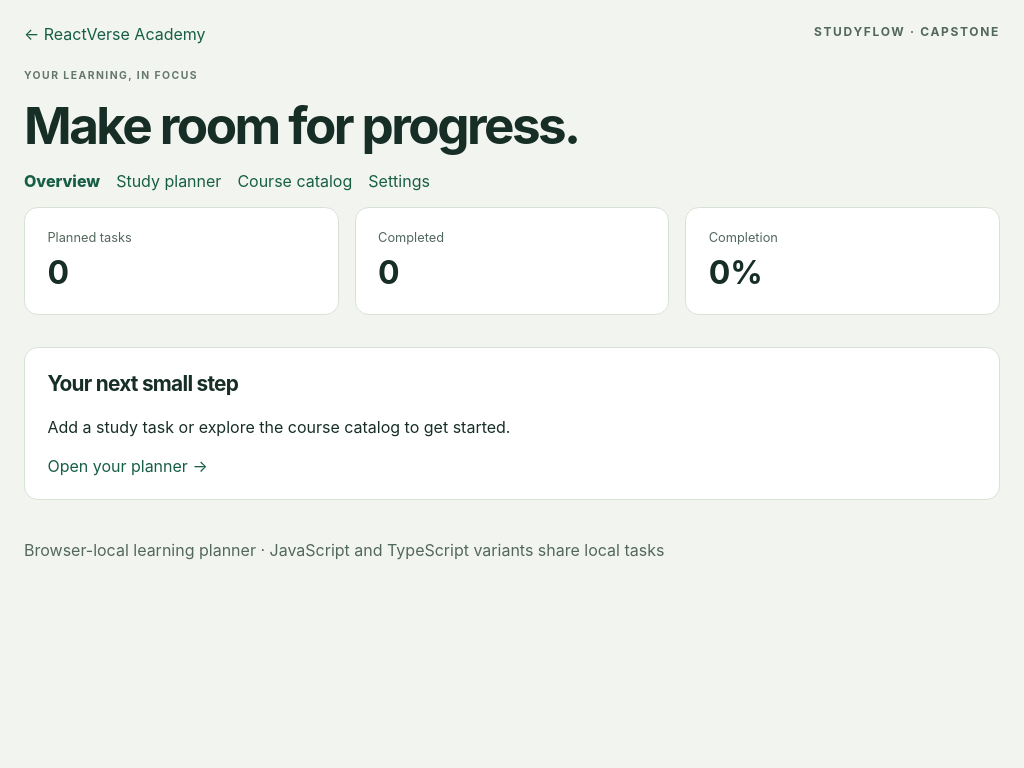
Scenario: capstone loads a catalog and adds a course to planner
Click the link "Course catalog" at (295, 180), box [237, 170, 352, 190]
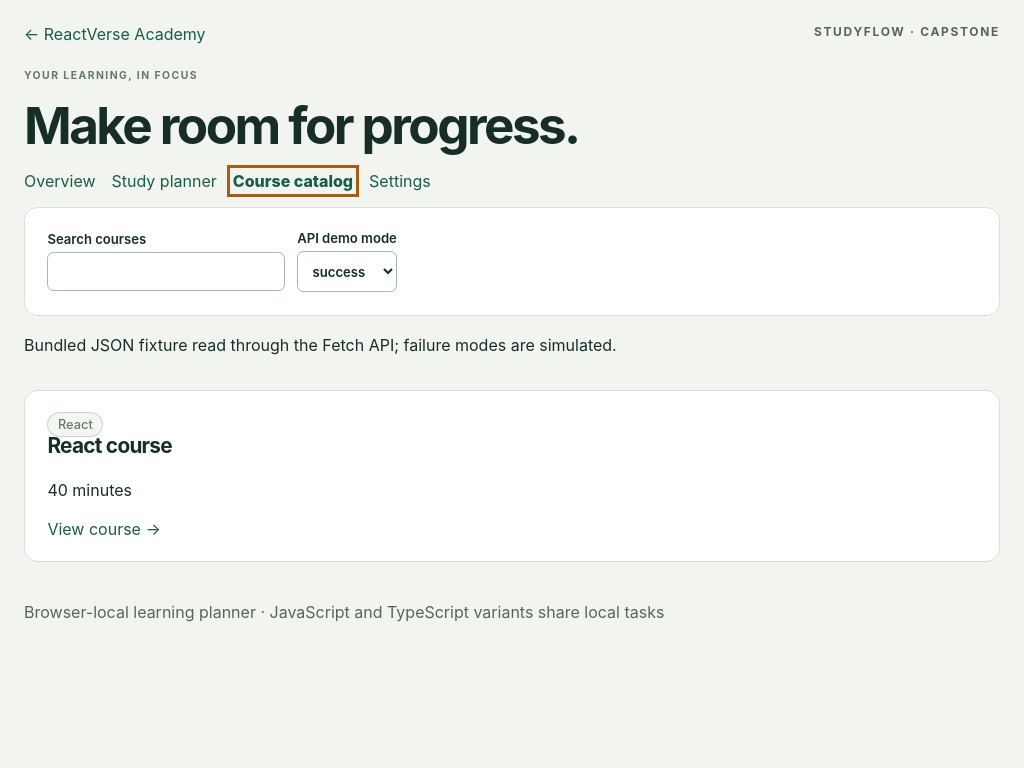
Click the link "View course →" at (104, 529), box [47, 519, 161, 539]
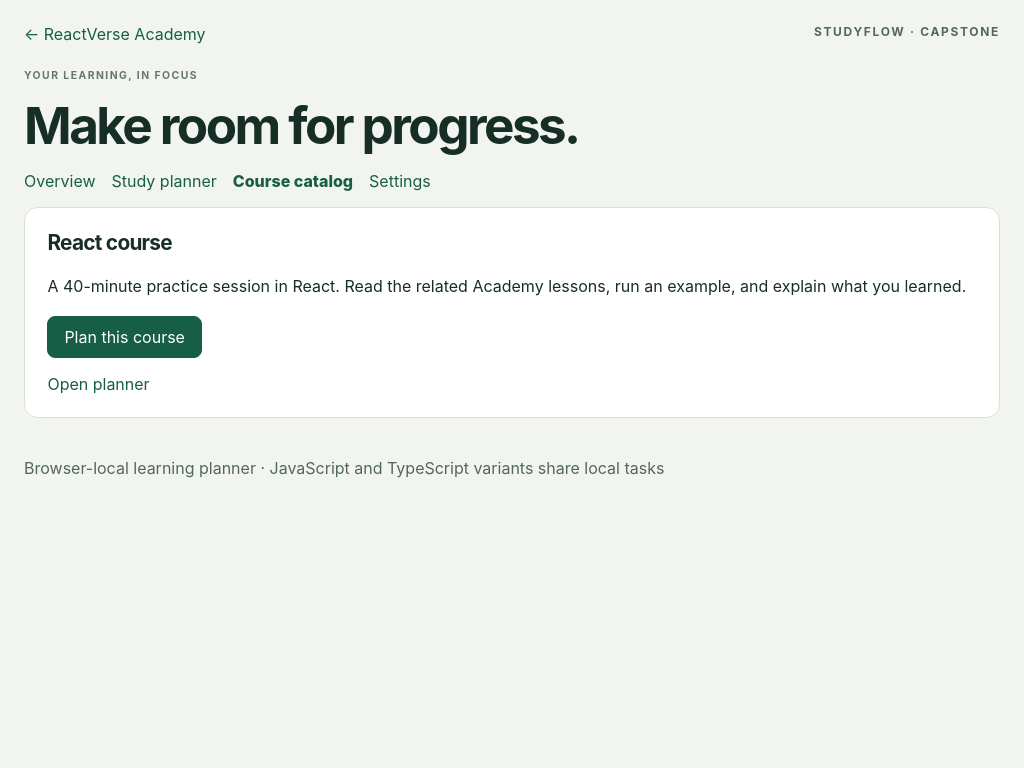
Click the button "Plan this course" at (125, 337), box [47, 316, 202, 358]
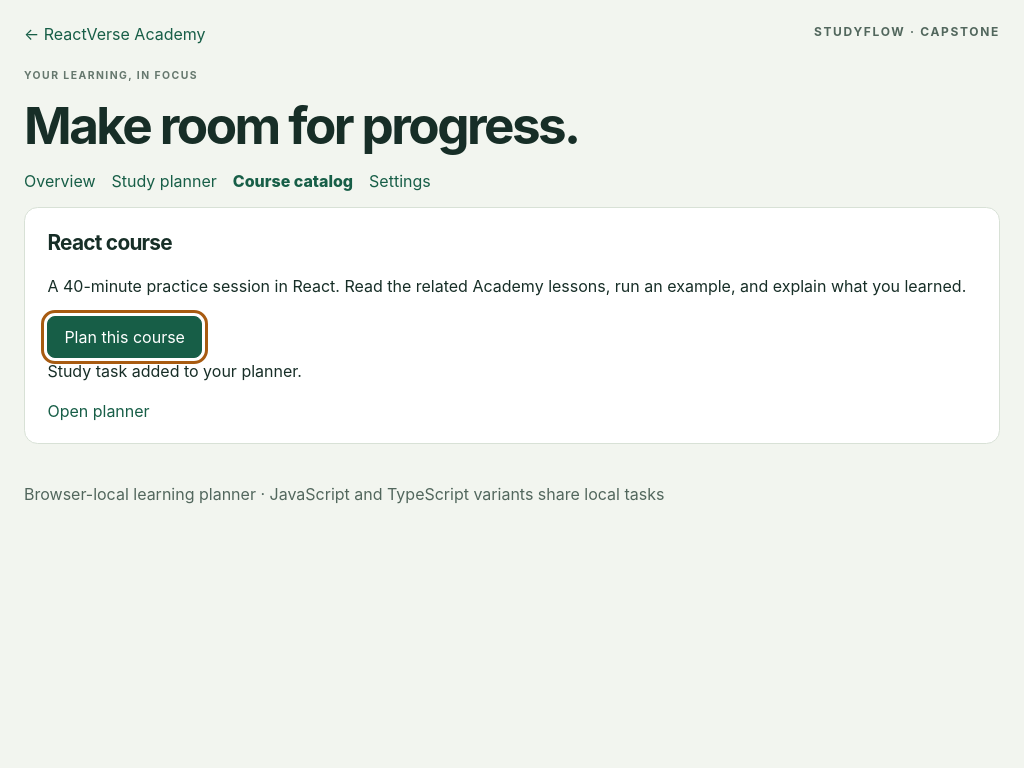
expect the message shows "Study task added": met, box [47, 361, 302, 381]
Click the link "Open planner" at (98, 411), box [47, 401, 150, 421]
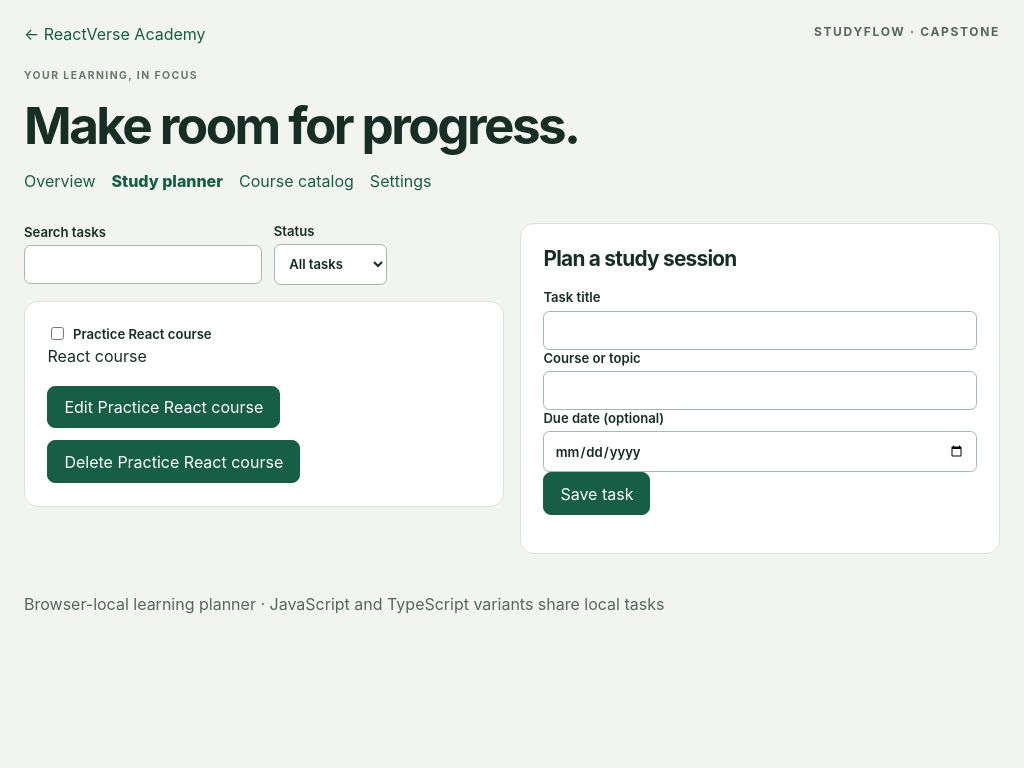
expect the checkbox labelled "Practice React course" is shown: met, box [51, 327, 64, 340]
